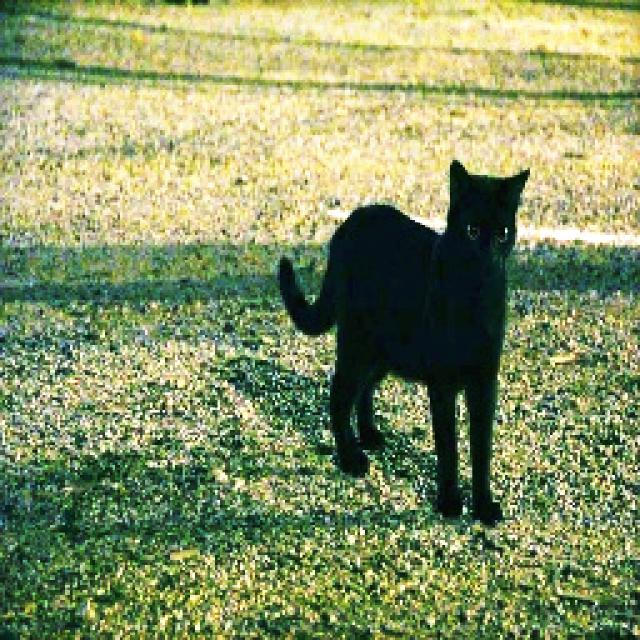cat: (275, 156, 526, 528)
